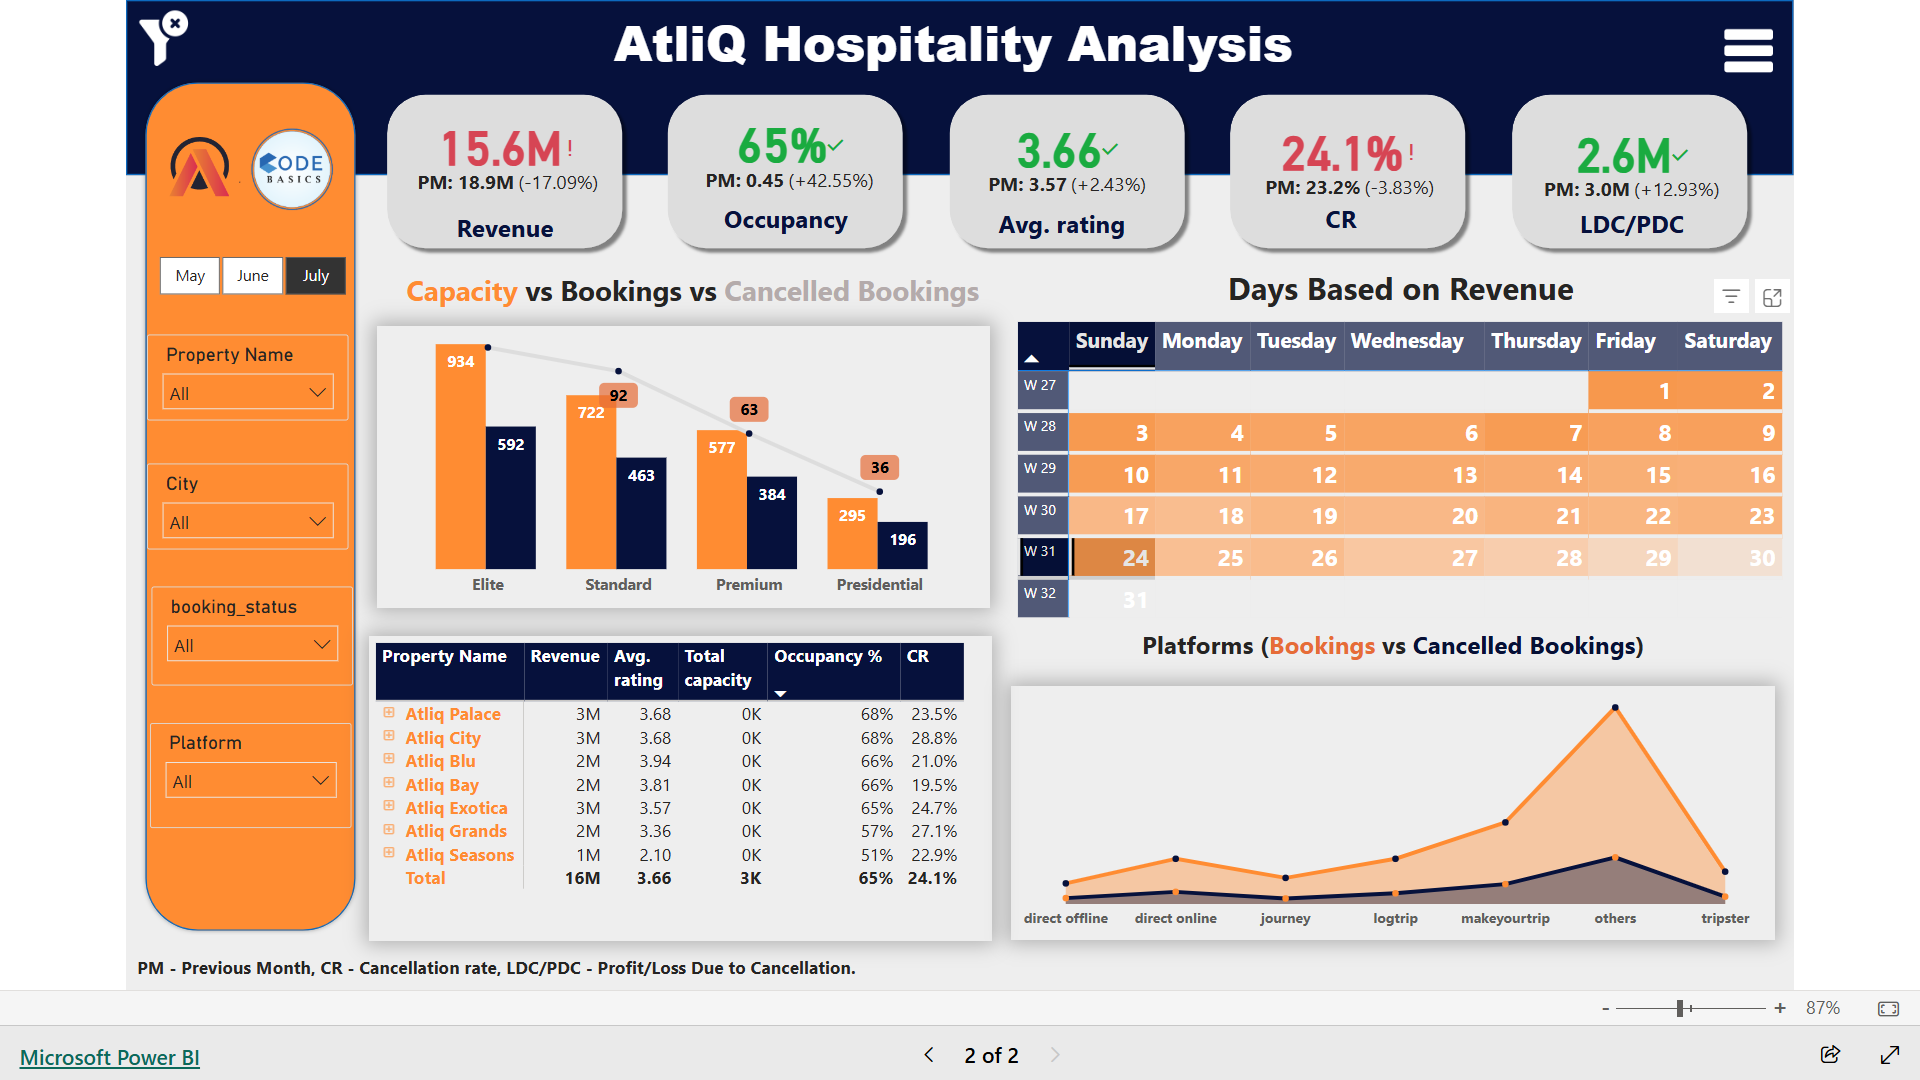

This screenshot's page, from the dashboard's own definition file:
{"tool":"powerbi","page":{"name":"Monthly","canvas":[1280,760],"ordinal":1},"visuals":[{"type":"group","id":"g1","title":"visuals","box":[0,0,1280,760.7],"z":0},{"type":"textbox","box":[0,727.8,1063.8,32.8],"z":0,"group":"g1"},{"type":"shape","box":[0,0,1280,134.4],"z":1000,"group":"g1"},{"type":"image","box":[2,0,52.8,58.9],"z":1000},{"type":"shape","box":[840.8,65.9,194.5,131.9],"z":2000,"group":"g1"},{"type":"shape","box":[624.8,65.9,194.5,131.9],"z":3000,"group":"g1"},{"type":"textbox","box":[679.4,476.2,586.9,50],"z":3000},{"type":"shape","box":[192.9,65.9,194.5,131.9],"z":4000,"group":"g1"},{"type":"textbox","box":[198.7,203.2,471.7,47],"z":4000},{"type":"shape","box":[408.9,65.9,194.5,131.9],"z":5000,"group":"g1"},{"type":"shape","box":[11.5,59.3,168.2,657.8],"z":6000,"group":"g1"},{"type":"shape","box":[1056.7,65.9,194.5,131.9],"z":7000,"group":"g1"},{"type":"pivotTable","fields":{"Rows":["dim_date.week no"],"Values":["Sum(dim_date.DAY)"],"Columns":["Week_day.Weekday"]},"box":[679.2,242.3,598.4,245.6],"z":8000,"group":"g1"},{"type":"slicer","fields":{"Values":["dim_date.mmm yy.Variation.Date Hierarchy.Month"]},"box":[0,189.6,192.9,42.9],"z":9000,"group":"g1"},{"type":"kpi","title":"Revenue","fields":{"Indicator":["resource_measures.revenue"],"TrendLine":["dim_date.date.Variation.Date Hierarchy.Month"],"Goal":["resource_measures.revenue LM"]},"box":[204.4,92.3,176.4,62.6],"z":10000,"group":"g1"},{"type":"kpi","fields":{"Indicator":["resource_measures.Occupancy %"],"TrendLine":["dim_date.date.Variation.Date Hierarchy.Month"],"Goal":["resource_measures.Occupancy % LM"]},"box":[423.7,89,171.5,65.9],"z":11000,"group":"g1"},{"type":"kpi","fields":{"Goal":["resource_measures.cancellation rate LM"],"TrendLine":["dim_date.date.Variation.Date Hierarchy.Month"],"Indicator":["resource_measures.CR"]},"box":[852.3,90.7,174.8,72.5],"z":12000,"group":"g1"},{"type":"kpi","fields":{"Indicator":["resource_measures.LDC"],"Goal":["resource_measures.LDC LM"],"TrendLine":["dim_date.date.Variation.Date Hierarchy.Month"]},"box":[1068.3,89,174.8,80.8],"z":13000,"group":"g1"},{"type":"kpi","title":"Avg. rating ","fields":{"Indicator":["resource_measures.Avg. rating"],"TrendLine":["dim_date.date.Variation.Date Hierarchy.Month"],"Goal":["resource_measures.avg.rating LM"]},"box":[631.4,92.3,183,65.9],"z":14000,"group":"g1"},{"type":"textbox","box":[1083.1,153.3,145.1,46.2],"z":15000,"group":"g1"},{"type":"textbox","box":[860.6,150,145.1,44.5],"z":16000,"group":"g1"},{"type":"textbox","box":[646.2,153.3,145.1,44.5],"z":17000,"group":"g1"},{"type":"textbox","box":[433.6,150,145.1,44.5],"z":18000,"group":"g1"},{"type":"textbox","box":[217.6,156.6,146.7,37.9],"z":19000,"group":"g1"},{"type":"textbox","box":[1.9,0,1278.1,65.6],"z":20000,"group":"g1"},{"type":"image","title":"three dot menu","box":[1213.7,15.1,64.4,47.3],"z":21000,"group":"g1"},{"type":"slicer","fields":{"Values":["dim_hotels.property_name"]},"box":[16.5,257.2,155,65.9],"z":22000,"group":"g1"},{"type":"slicer","fields":{"Values":["dim_hotels.city"]},"box":[16.5,356.1,155,65.9],"z":23000,"group":"g1"},{"type":"slicer","fields":{"Values":["fact_bookings.booking_status"]},"box":[19.8,450.1,155,75.8],"z":24000,"group":"g1"},{"type":"slicer","fields":{"Values":["fact_bookings.booking_platform"]},"box":[18.1,555.6,155,80.8],"z":25000,"group":"g1"},{"type":"image","title":"atliq","box":[15.1,90.4,77.6,73.8],"z":26000,"group":"g1"},{"type":"image","title":"codebasics","box":[85.2,90.4,85.2,77.6],"z":27000,"group":"g1"},{"type":"lineClusteredColumnComboChart","title":"Capacity vs Bookings vs Cancelled Bookings","fields":{"Category":["dim_rooms.room_class"],"Y":["resource_measures.Total capacity","resource_measures.Total sucessful bookings"],"Y2":["resource_measures.Total cancelled bookings"]},"box":[192.6,250.2,471.7,216.9],"z":28000,"group":"g1"},{"type":"areaChart","fields":{"Category":["fact_bookings.booking_platform"],"Y":["resource_measures.Total bookings","resource_measures.Total cancelled bookings"]},"box":[679.4,526.3,586.9,195.6],"z":29000,"group":"g1"},{"type":"pivotTable","fields":{"Rows":["dim_hotels.property_name","dim_hotels.city"],"Values":["resource_measures.revenue","resource_measures.Avg. rating","resource_measures.Total capacity","resource_measures.Occupancy %","resource_measures.CR"]},"box":[186.3,488,478.1,234.1],"z":30000,"group":"g1"},{"type":"textbox","box":[679.2,199.5,598.4,49.5],"z":31000,"group":"g1"}]}

Visuals, with their boxes on the page's 1280x760 design canvas (x1, y1, x2, y2). These are canvas units, not pixel positions in the 1920x1080 screenshot, which may show the page scaled, cropped or inside an application window:
"visuals" group: (0, 0, 1280, 761)
textbox: (0, 728, 1064, 761)
shape: (0, 0, 1280, 134)
image: (2, 0, 55, 59)
shape: (841, 66, 1035, 198)
shape: (625, 66, 819, 198)
textbox: (679, 476, 1266, 526)
shape: (193, 66, 387, 198)
textbox: (199, 203, 670, 250)
shape: (409, 66, 603, 198)
shape: (12, 59, 180, 717)
shape: (1057, 66, 1251, 198)
pivotTable - dim_date.week no x Sum(dim_date.DAY): (679, 242, 1278, 488)
slicer - dim_date.mmm yy.Variation.Date Hierarchy.Month: (0, 190, 193, 232)
"Revenue" kpi: (204, 92, 381, 155)
kpi - resource_measures.Occupancy % x dim_date.date.Variation.Date Hierarchy.Month: (424, 89, 595, 155)
kpi - resource_measures.cancellation rate LM x dim_date.date.Variation.Date Hierarchy.Month: (852, 91, 1027, 163)
kpi - resource_measures.LDC x resource_measures.LDC LM: (1068, 89, 1243, 170)
"Avg. rating " kpi: (631, 92, 814, 158)
textbox: (1083, 153, 1228, 200)
textbox: (861, 150, 1006, 194)
textbox: (646, 153, 791, 198)
textbox: (434, 150, 579, 194)
textbox: (218, 157, 364, 194)
textbox: (2, 0, 1280, 66)
"three dot menu" image: (1214, 15, 1278, 62)
slicer - dim_hotels.property_name: (16, 257, 172, 323)
slicer - dim_hotels.city: (16, 356, 172, 422)
slicer - fact_bookings.booking_status: (20, 450, 175, 526)
slicer - fact_bookings.booking_platform: (18, 556, 173, 636)
"atliq" image: (15, 90, 93, 164)
"codebasics" image: (85, 90, 170, 168)
"Capacity vs Bookings vs Cancelled Bookings" lineClusteredColumnComboChart: (193, 250, 664, 467)
areaChart - fact_bookings.booking_platform x resource_measures.Total bookings: (679, 526, 1266, 722)
pivotTable - dim_hotels.property_name x dim_hotels.city: (186, 488, 664, 722)
textbox: (679, 200, 1278, 249)
